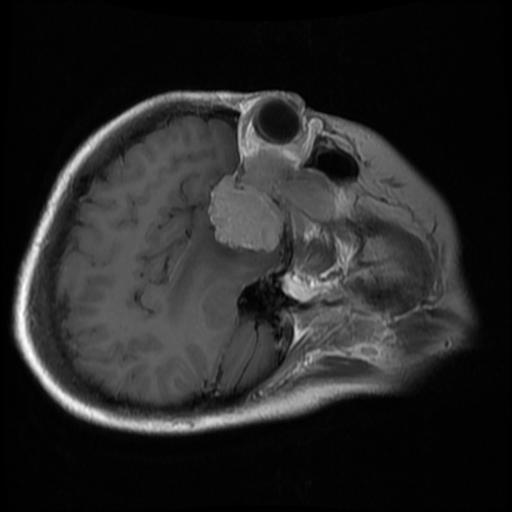meningioma: (207, 172, 284, 253)
